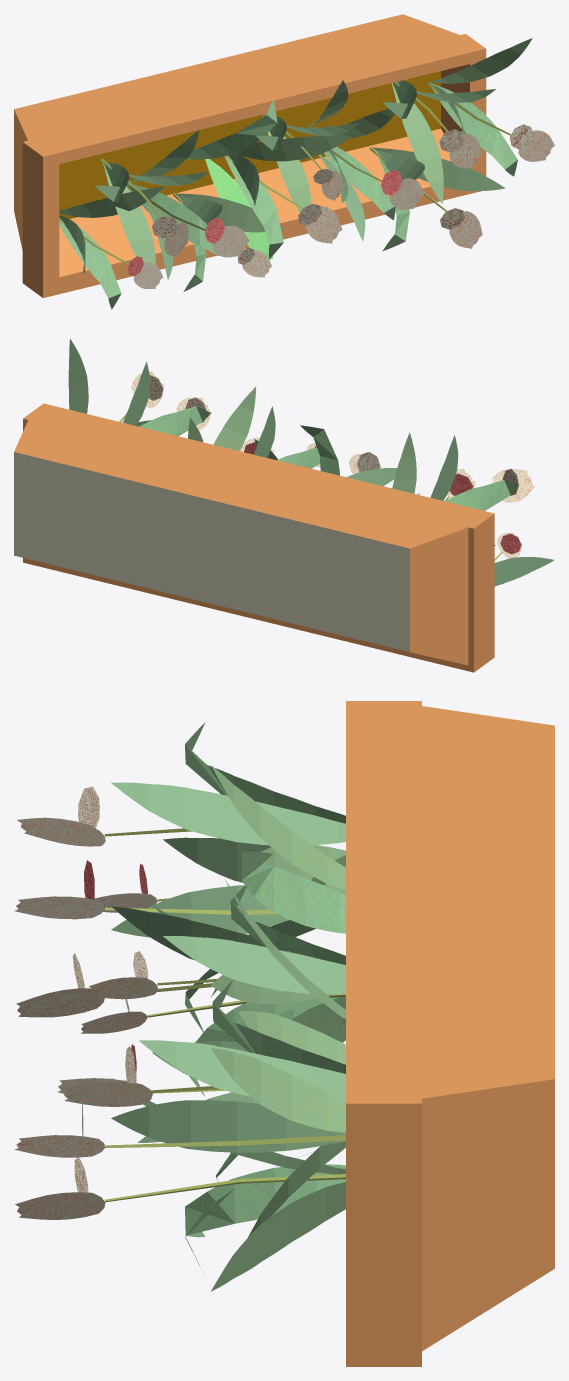
3 views of the same model, one above another, from view 1: azimuth 30°, elevation 25°; view 2: azimuth 150°, elevation 25°; view 3: azimuth 270°, elevation 25° (orthographic). The views are drawn at different scales.
Parts seen in each view (by area): view 1: tulips window planter; view 2: tulips window planter; view 3: tulips window planter.
Part boxes in pixels (x1=…): tulips window planter: x1=14, y1=14, x2=554, y2=309; tulips window planter: x1=14, y1=339, x2=554, y2=672; tulips window planter: x1=14, y1=701, x2=554, y2=1366.
Size of the model in its own units: 42.88 by 15.93 by 23.28.
